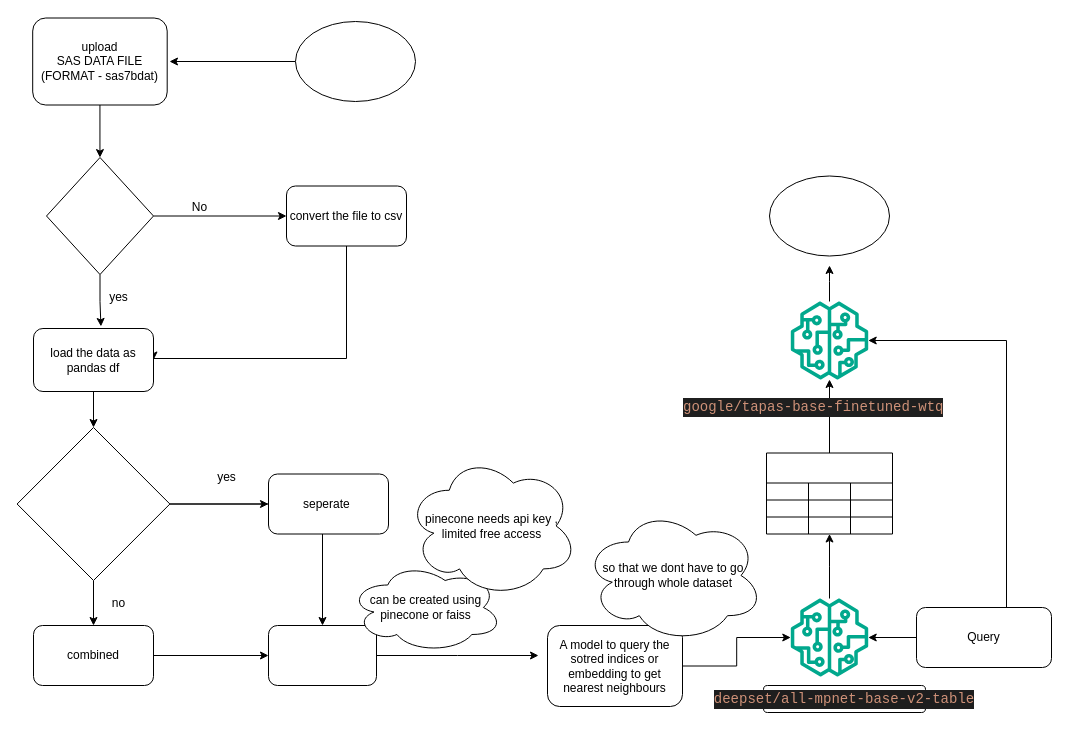
Image size: 1070x730. Some labels were removed from this diagram. The shapes that lost their labels are listed below. From the top down, each one's centre as x and y in pixels, then its label:
the point at 355,61: Start
the point at 100,215: check if file is in csv
the point at 829,215: answer
the point at 93,503: seperate embedding for each column
the point at 829,493: output table
the point at 322,655: now create vector embedding and store the indicies
